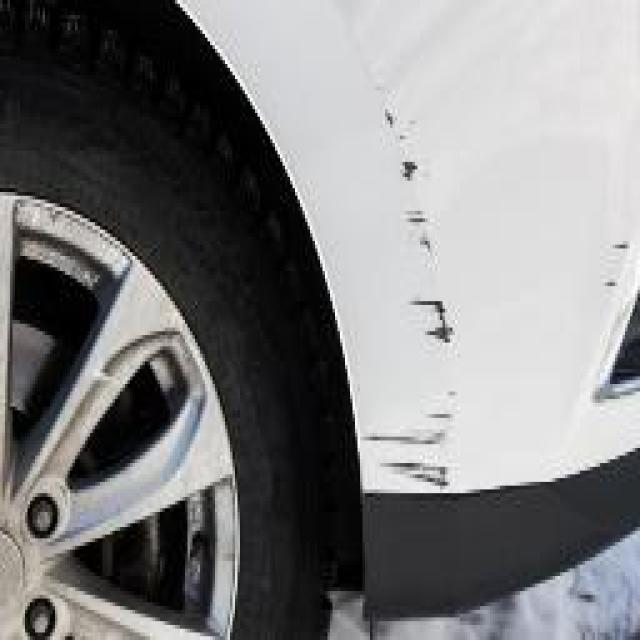Fender: (300, 30, 525, 493)
